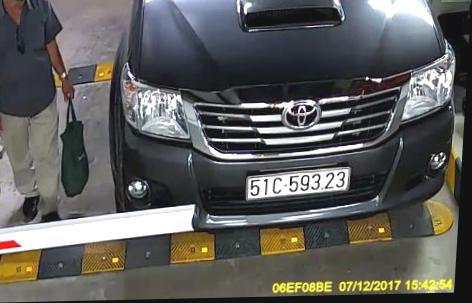License_Plate: (243, 166, 350, 200)
